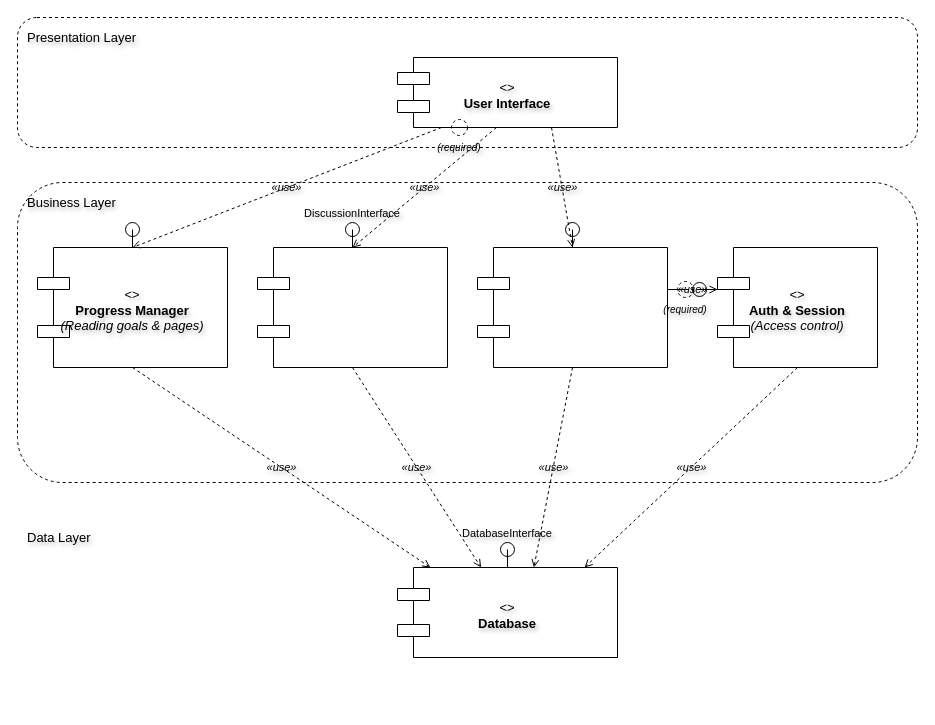
This 935x725 diagram has some shape labels left out. The shapes that lost their labels are listed below. From the top down, each one's centre as x and y in pixels, then its label:
(x=132, y=229): ProgressInterface
(x=572, y=229): PollInterface
(x=352, y=307): <> Discussion Manager (Spoiler-tagged threads)
(x=572, y=307): <> Poll / Vote Manager (Monthly book polls)
(x=699, y=289): AuthInterface
